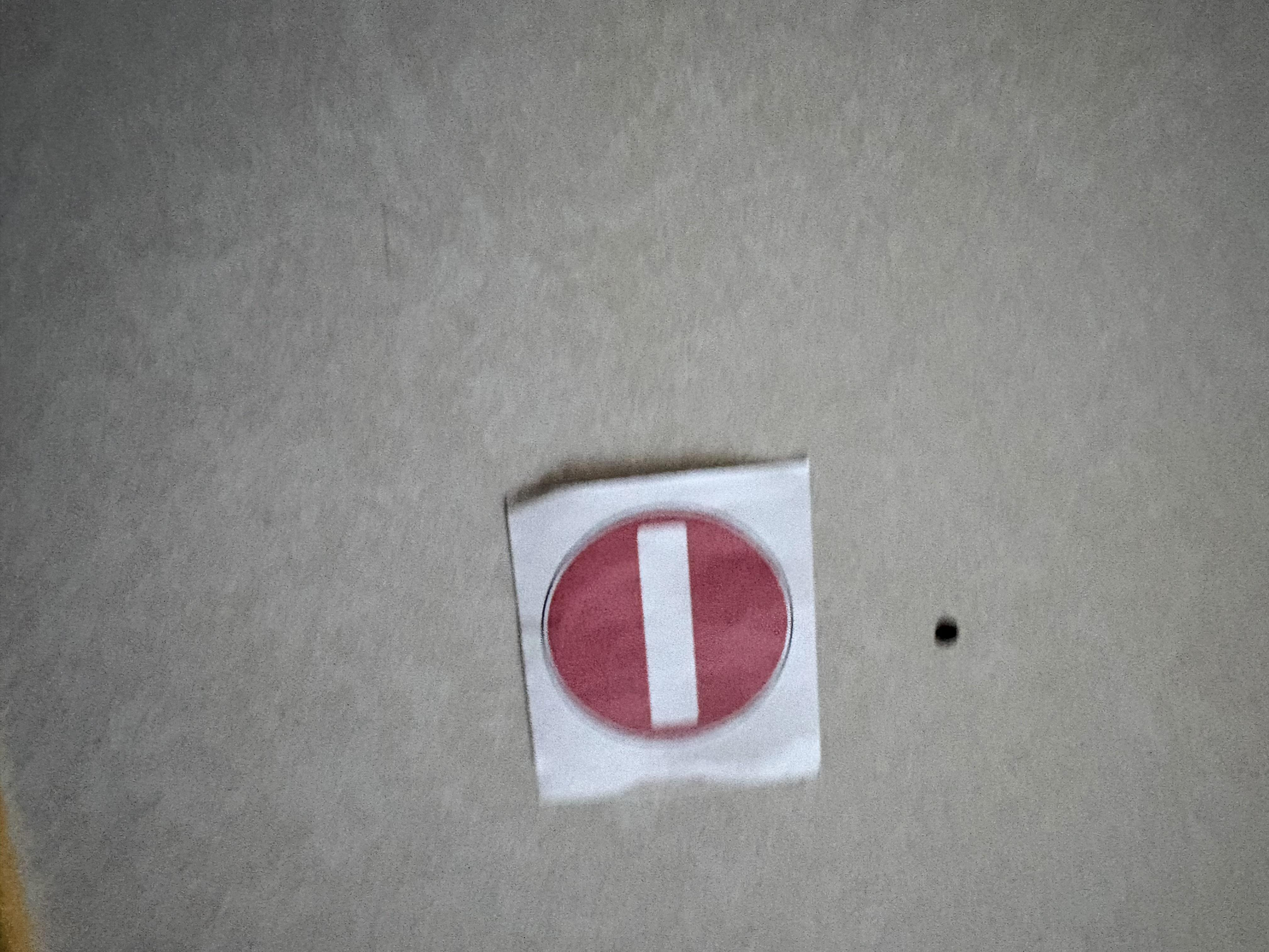No Entry: (507, 454, 825, 818)
